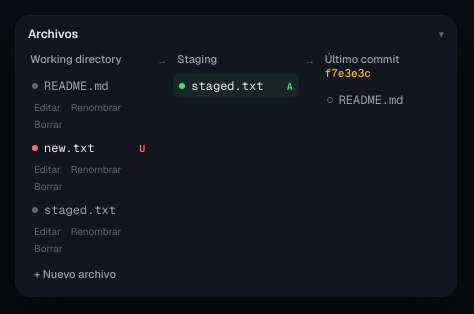
Test case: FilesStrip / per-file actions › after a SUCCESSFUL Borrar (the row is gone), moves focus to the next file's Borrar button
The image size is (474, 314).
Click the button with aria-label "Borrar new.txt".
click(48, 186)  # box [30,179,66,194]
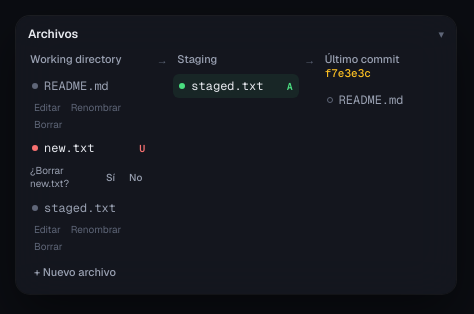
Click the button with aria-label "Confirmar borrado de new.txt".
click(110, 177)  # box [101,170,120,184]
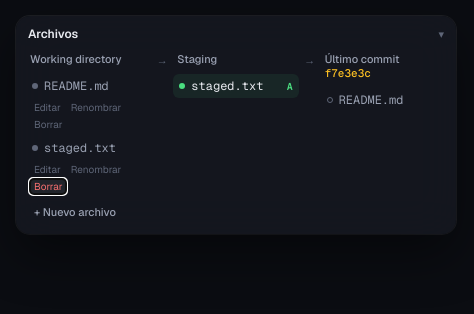
Now the text "Borrar new.txt" is gone
